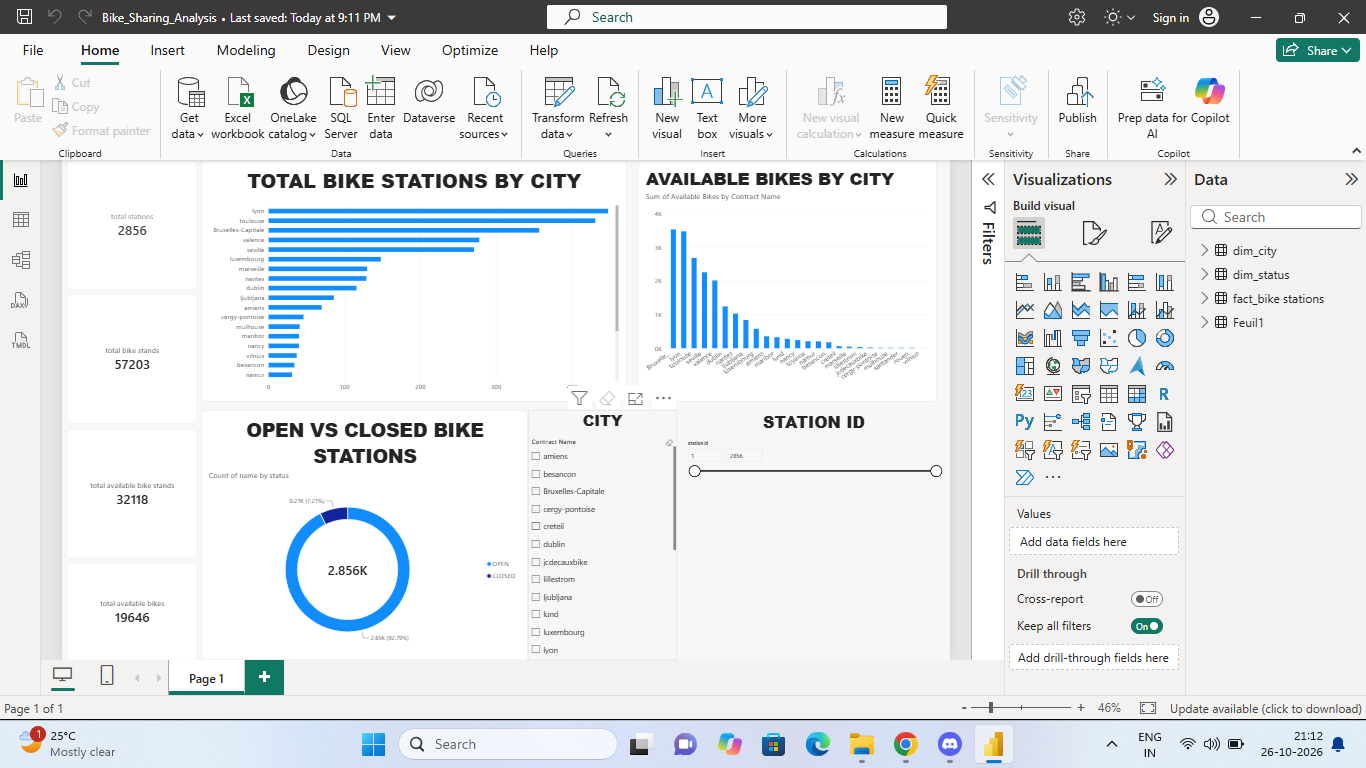

The dashboard page shown, as its layout file describes it:
{"tool":"powerbi","page":{"name":"Page 1","canvas":[1920,1080],"ordinal":0},"visuals":[{"type":"cardVisual","fields":{"Data":["Feuil1.total stations"]},"box":[10,0,280,280],"z":0},{"type":"cardVisual","fields":{"Data":["Feuil1.total bike stands"]},"box":[10,290,280,280],"z":1},{"type":"cardVisual","fields":{"Data":["Feuil1.total available bike stands"]},"box":[10,580,280,280],"z":2},{"type":"cardVisual","fields":{"Data":["Feuil1.total available bikes"]},"box":[10,870,280,210],"z":3},{"type":"clusteredBarChart","title":"TOTAL BIKE STATIONS BY CITY","fields":{"Category":["Feuil1.Contract Name"],"Y":["CountNonNull(Feuil1.name)"]},"box":[299.8,0,919.7,521.6],"z":4},{"type":"clusteredColumnChart","title":"AVAILABLE BIKES BY CITY","fields":{"Category":["Feuil1.Contract Name"],"Y":["Sum(Feuil1.Available Bikes)"]},"box":[1244.2,0,645,521.6],"z":5},{"type":"donutChart","title":"OPEN VS CLOSED BIKE STATIONS","fields":{"Category":["Feuil1.status"],"Y":["Feuil1.total stations"]},"box":[300.2,540,706.3,540],"z":6},{"type":"slicer","title":"CITY","fields":{"Values":["Feuil1.Contract Name"]},"box":[1006.6,540,321.8,540],"z":7},{"type":"slicer","title":"STATION ID","fields":{"Values":["Feuil1.station id"]},"box":[1343.5,540,561.6,179.3],"z":8}]}

Visuals, with their boxes on the page's 1920x1080 design canvas (x1, y1, x2, y2). These are canvas units, not pixel positions in the 1366x768 screenshot, which may show the page scaled, cropped or inside an application window:
cardVisual - Feuil1.total stations: <region>10, 0, 290, 280</region>
cardVisual - Feuil1.total bike stands: <region>10, 290, 290, 570</region>
cardVisual - Feuil1.total available bike stands: <region>10, 580, 290, 860</region>
cardVisual - Feuil1.total available bikes: <region>10, 870, 290, 1080</region>
"TOTAL BIKE STATIONS BY CITY" clusteredBarChart: <region>300, 0, 1220, 522</region>
"AVAILABLE BIKES BY CITY" clusteredColumnChart: <region>1244, 0, 1889, 522</region>
"OPEN VS CLOSED BIKE STATIONS" donutChart: <region>300, 540, 1006, 1080</region>
"CITY" slicer: <region>1007, 540, 1328, 1080</region>
"STATION ID" slicer: <region>1344, 540, 1905, 719</region>
